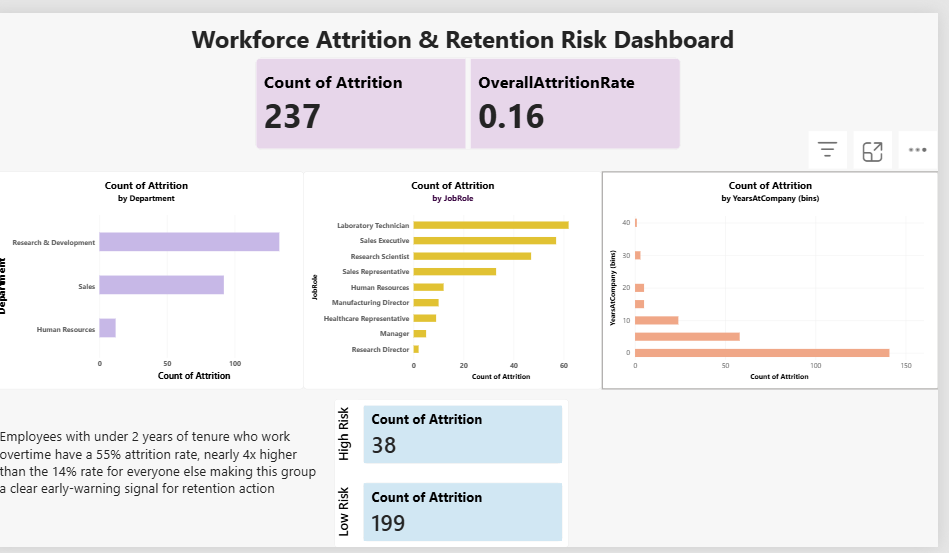

Layout of this report page (visuals, bound fields, positions):
{"tool":"powerbi","page":{"name":"Page 1","canvas":[1920,1080],"ordinal":0},"visuals":[{"type":"clusteredBarChart","fields":{"Category":["IBM.Department"],"Y":["CountNonNull(IBM.Attrition)"]},"box":[0,320,638.3,440],"z":0},{"type":"clusteredBarChart","fields":{"Category":["IBM.JobRole"],"Y":["CountNonNull(IBM.Attrition)"]},"box":[635,320,603.3,440],"z":1000},{"type":"clusteredBarChart","fields":{"Category":["IBM.YearsAtCompany (bins)"],"Y":["CountNonNull(IBM.Attrition)"]},"box":[1240,320,680,440],"z":2000},{"type":"cardVisual","fields":{"Data":["CountNonNull(IBM.Attrition)","IBM.OverallAttritionRate"]},"box":[540,90,860,186.7],"z":3000},{"type":"cardVisual","fields":{"Data":["CountNonNull(IBM.Attrition)"],"Rows":["IBM.EmployeeRiskFlag","IBM.EmployeeRiskFlag"]},"box":[700,780,473.3,300],"z":4000},{"type":"textbox","box":[115,0,1685,90],"z":5000},{"type":"textbox","box":[23.3,836.7,643.3,186.7],"z":6000}]}

Visuals, with their boxes on the page's 1920x1080 design canvas (x1, y1, x2, y2). These are canvas units, not pixel positions in the 949x553 screenshot, which may show the page scaled, cropped or inside an application window:
clusteredBarChart - IBM.Department x CountNonNull(IBM.Attrition): <region>0, 320, 638, 760</region>
clusteredBarChart - IBM.JobRole x CountNonNull(IBM.Attrition): <region>635, 320, 1238, 760</region>
clusteredBarChart - IBM.YearsAtCompany (bins) x CountNonNull(IBM.Attrition): <region>1240, 320, 1920, 760</region>
cardVisual - CountNonNull(IBM.Attrition) x IBM.OverallAttritionRate: <region>540, 90, 1400, 277</region>
cardVisual - CountNonNull(IBM.Attrition) x IBM.EmployeeRiskFlag: <region>700, 780, 1173, 1080</region>
textbox: <region>115, 0, 1800, 90</region>
textbox: <region>23, 837, 667, 1023</region>
